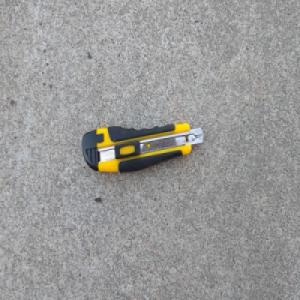Cutter: (79, 120, 204, 175)
